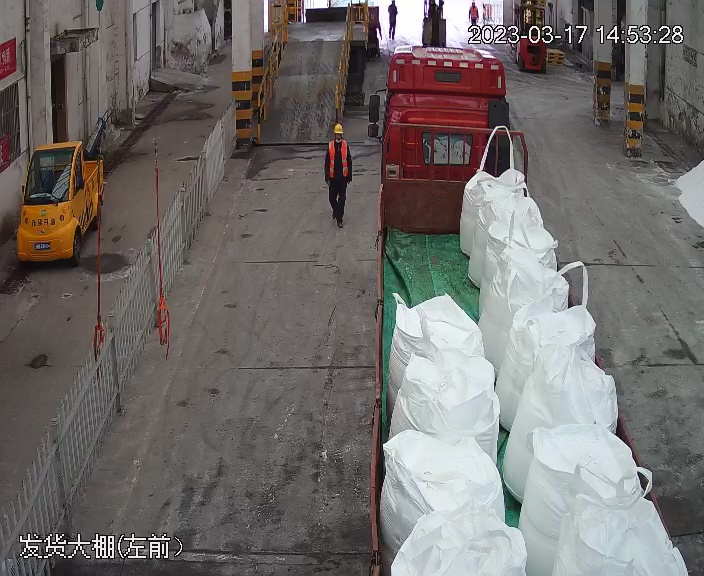head: (325, 122, 351, 155)
helmet: (331, 122, 345, 134)
people: (319, 120, 356, 228), (466, 1, 484, 38), (387, 1, 399, 40)
truck: (362, 40, 703, 576)
